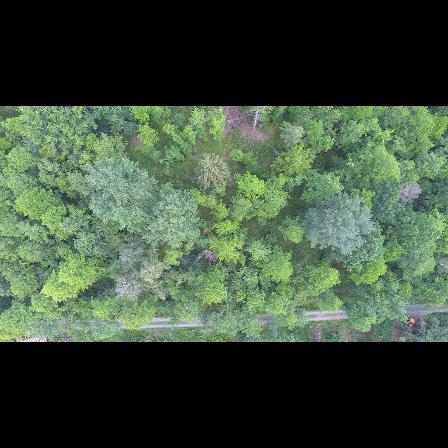Dead: (396, 180, 424, 204), (249, 109, 263, 133), (225, 112, 247, 126)
